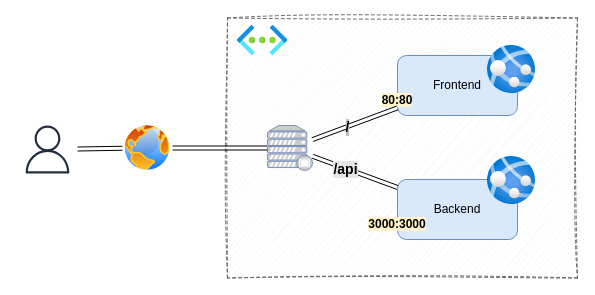
Image size: 595x295. Some labels were removed from this diagram. Here are the shapes that lost their labels. From the top down, the centre of each, then its label:
point (47, 149): User
point (289, 147): Proxy
